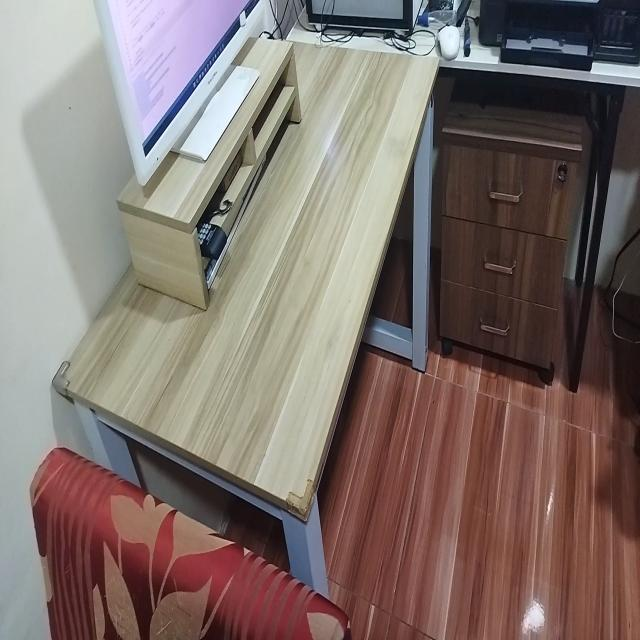table: (66, 33, 436, 528)
